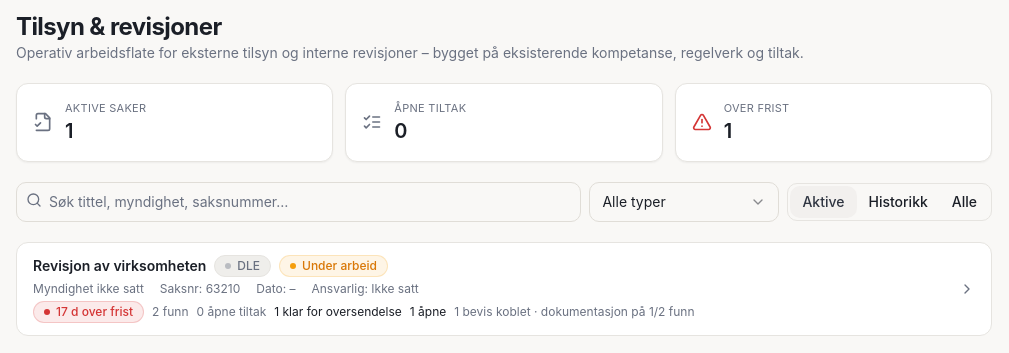
Test: overview consumes shared summaries › keeps a mixed case active and uses the same finding counts as the shared projection
The image size is (1009, 353).
expect the button "Revisjon av virksomheten" is enabled: met, box [16,242,992,336]
Click the button "Historikk": click(898, 202) [856,186,940,218]
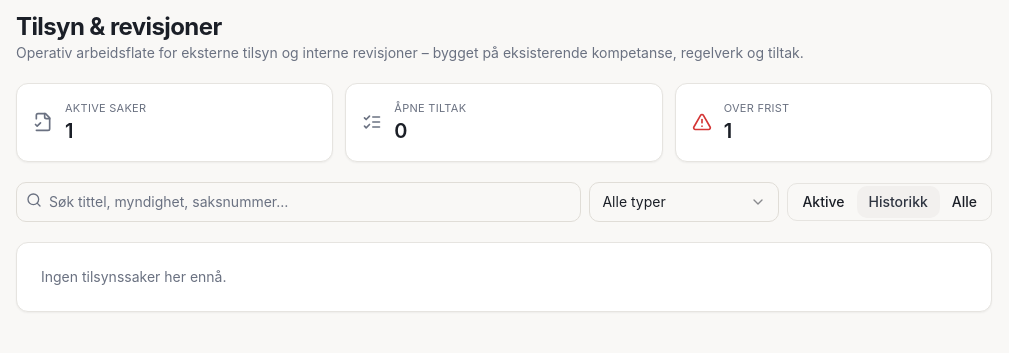
expect the button "Revisjon av virksomheten" is gone: met
Click the button "Aktive": click(823, 202) [790,186,856,218]
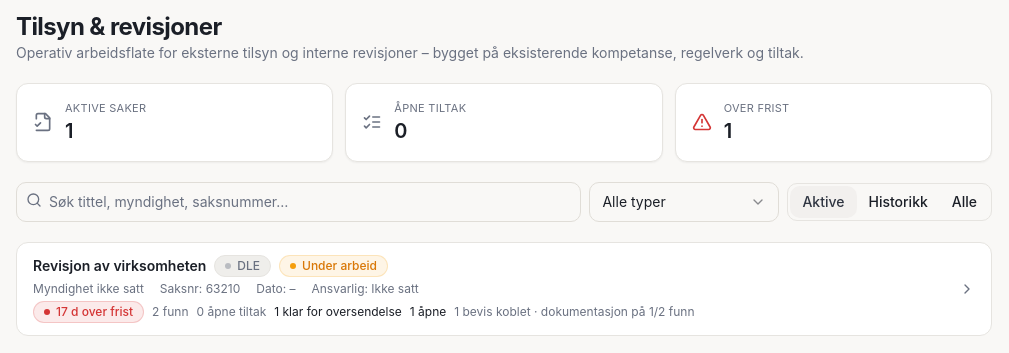
expect the button "Revisjon av virksomheten" is enabled: met, box [16,242,992,336]
